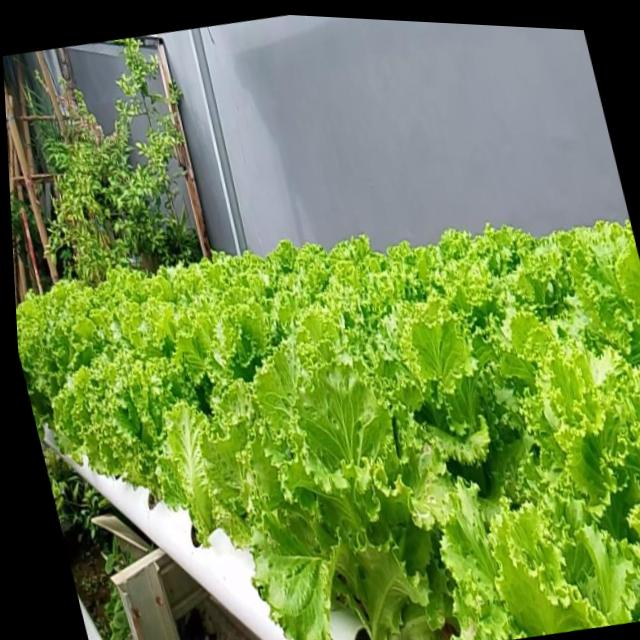Mature: (20, 193, 640, 640), (228, 344, 432, 640), (32, 303, 196, 512)
